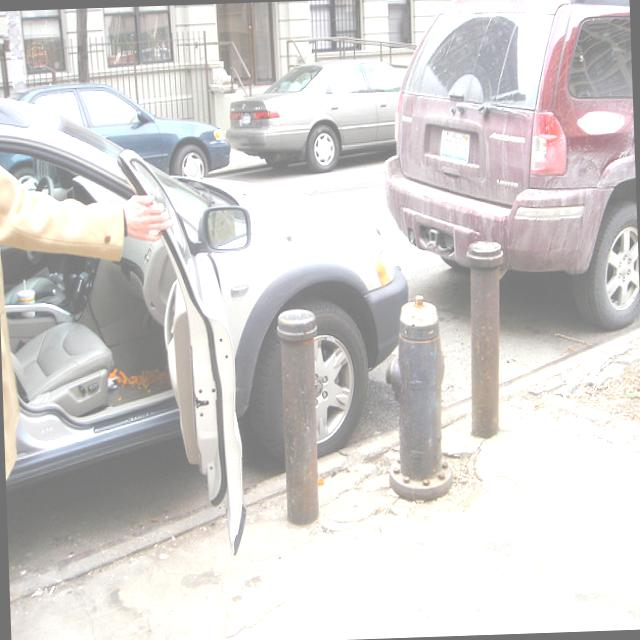Vehicle: (0, 81, 416, 562), (374, 0, 639, 338), (13, 76, 230, 186), (223, 58, 406, 175)
